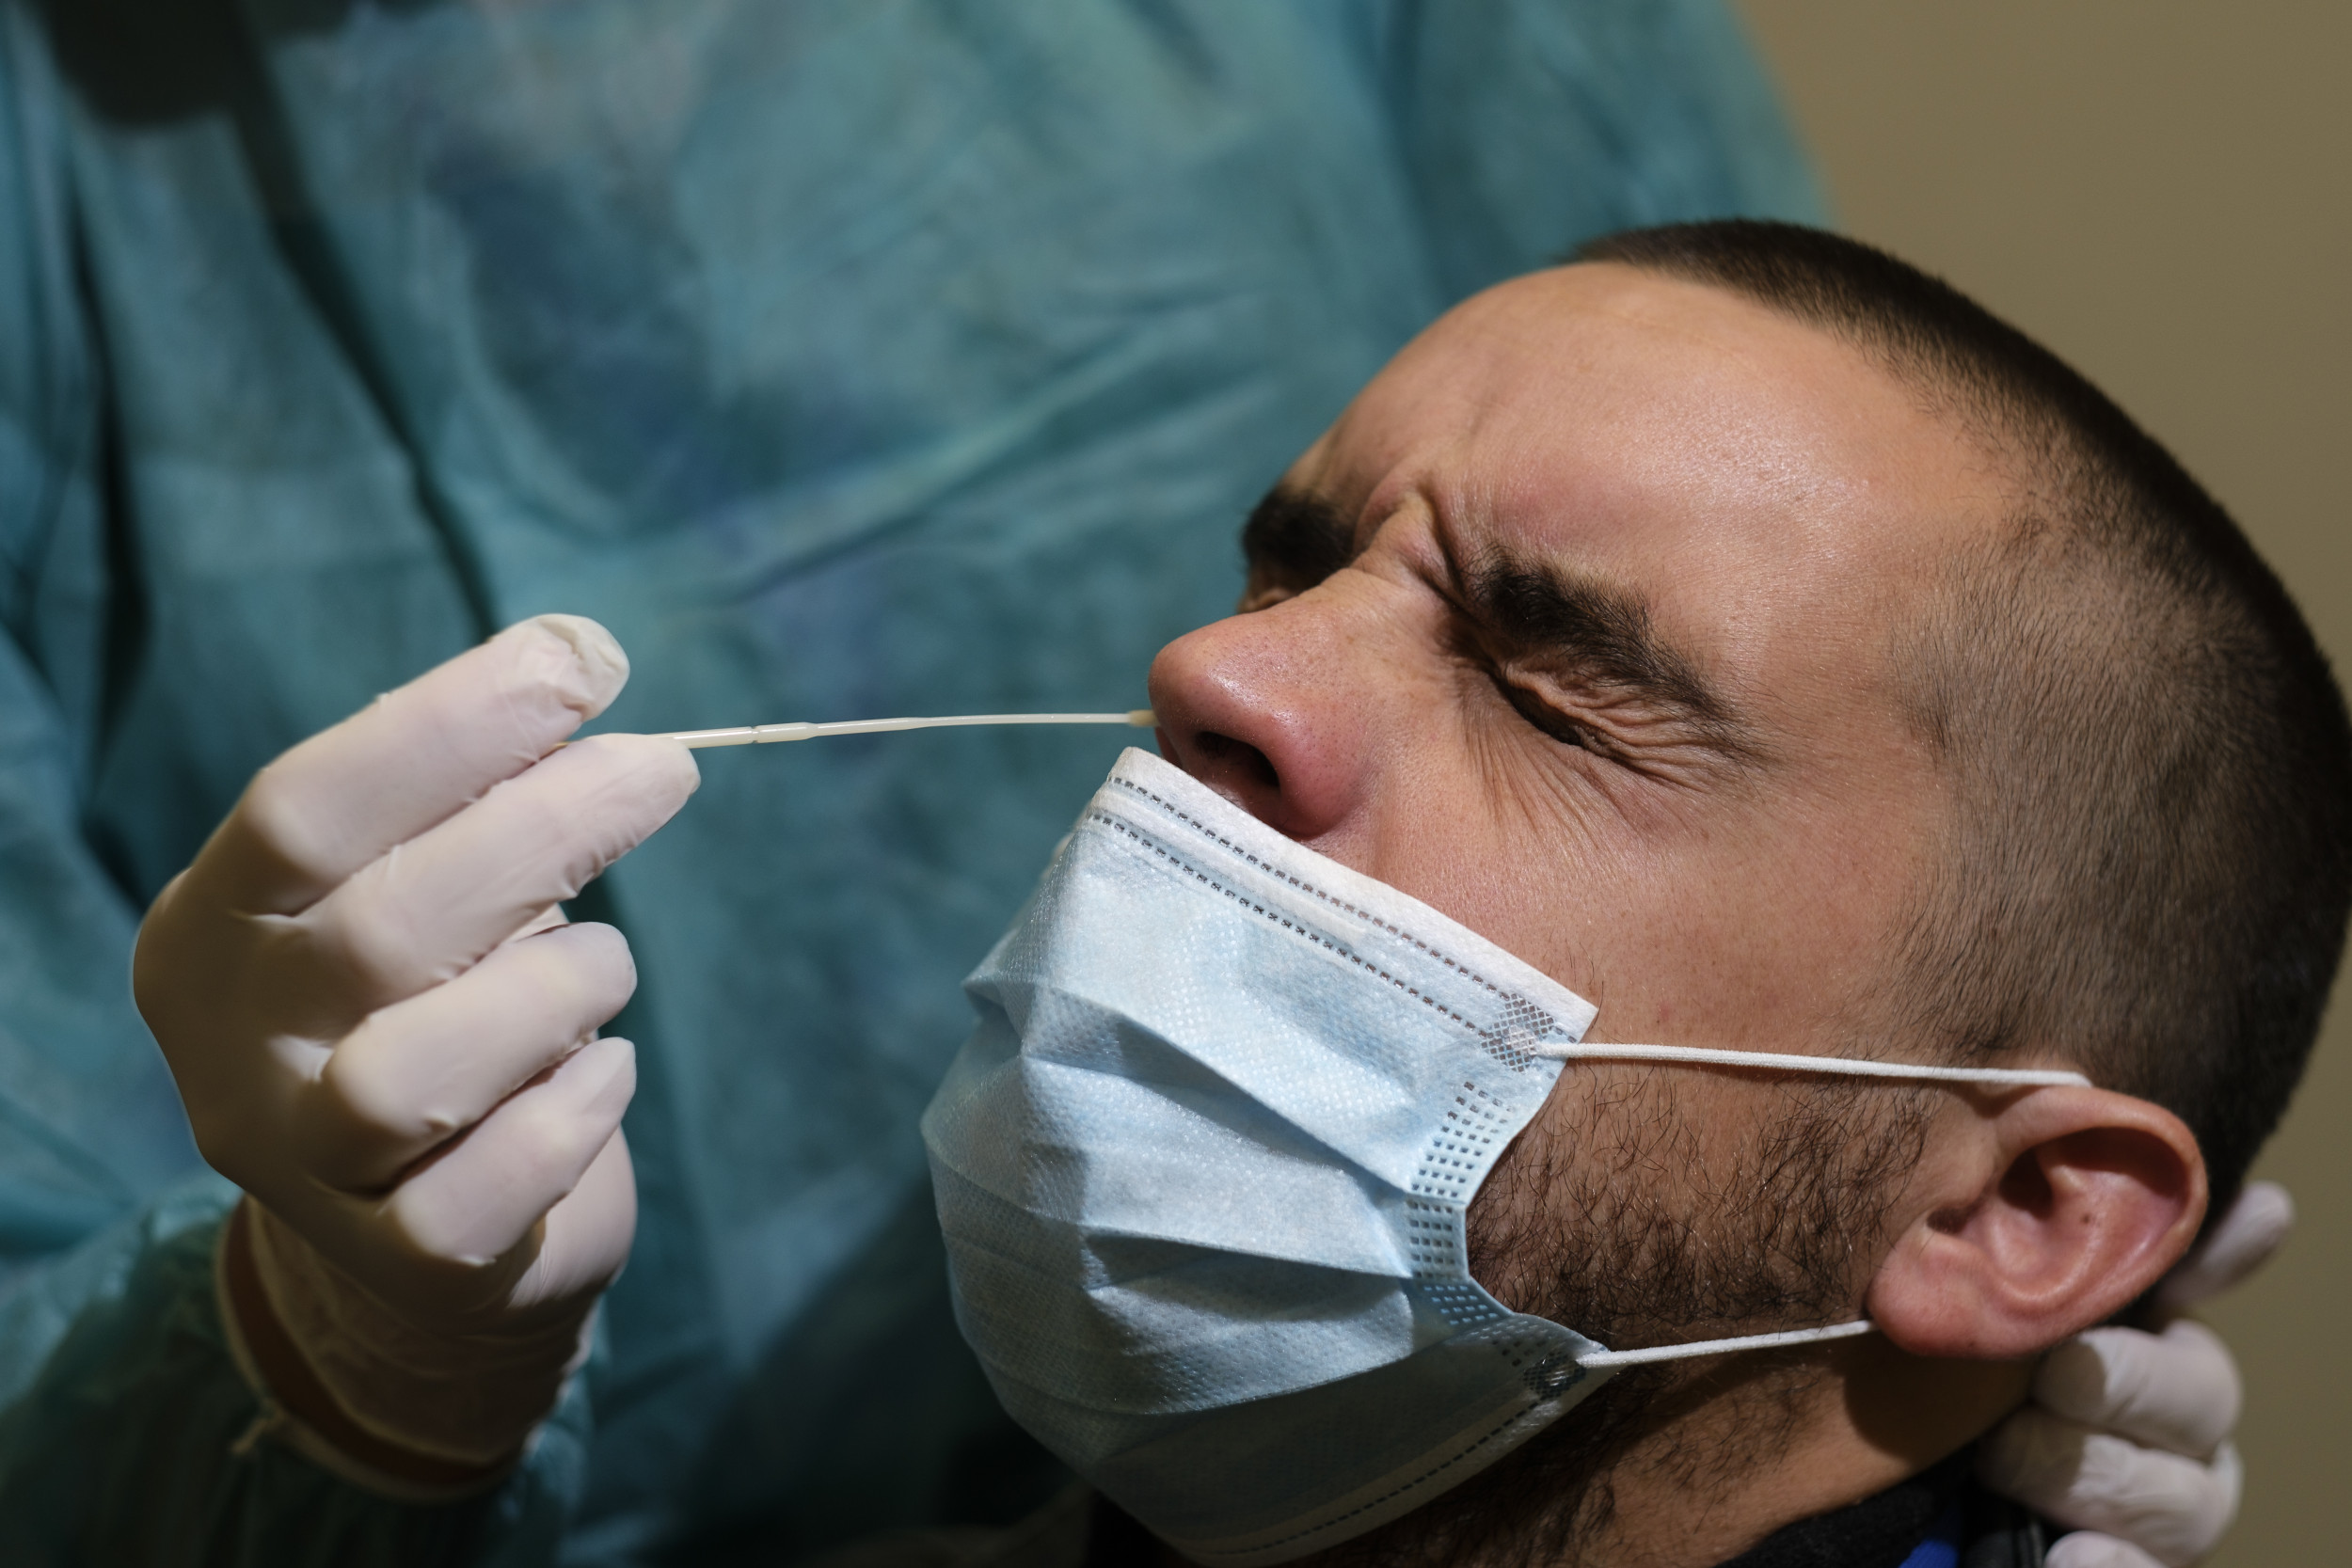Gloves: (123, 588, 730, 1528)
mask_weared_incorrect: (929, 362, 1880, 1551)
